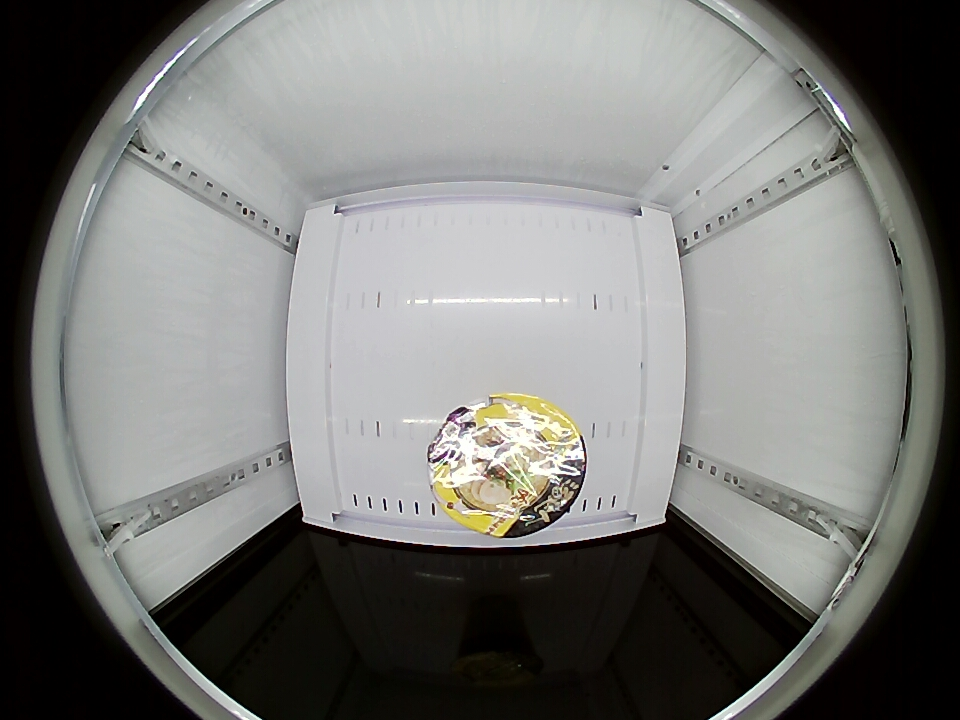tangdaren2: (428, 394, 587, 538)
